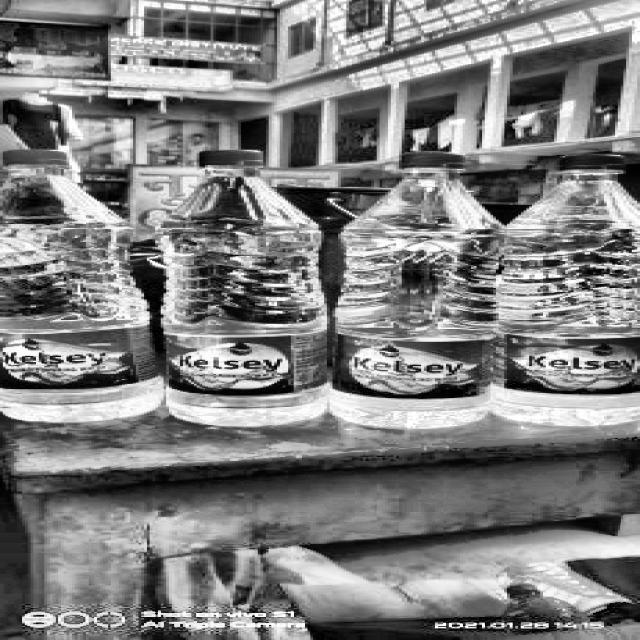waterbottle: (330, 151, 504, 429), (158, 150, 327, 427), (0, 148, 163, 423), (493, 154, 640, 427)
